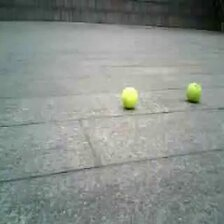tennis: (121, 87, 139, 109), (186, 82, 202, 101)
